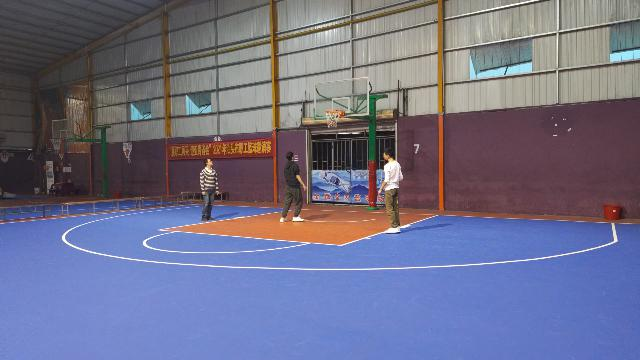ball: (43, 165, 49, 170)
basket: (325, 109, 343, 127), (49, 137, 62, 149)
goal: (328, 118, 336, 126)
